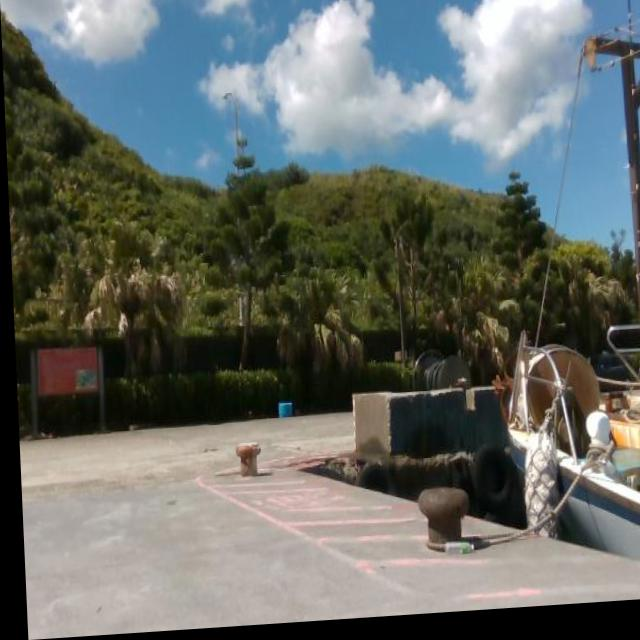pollute: (274, 406, 290, 422)
